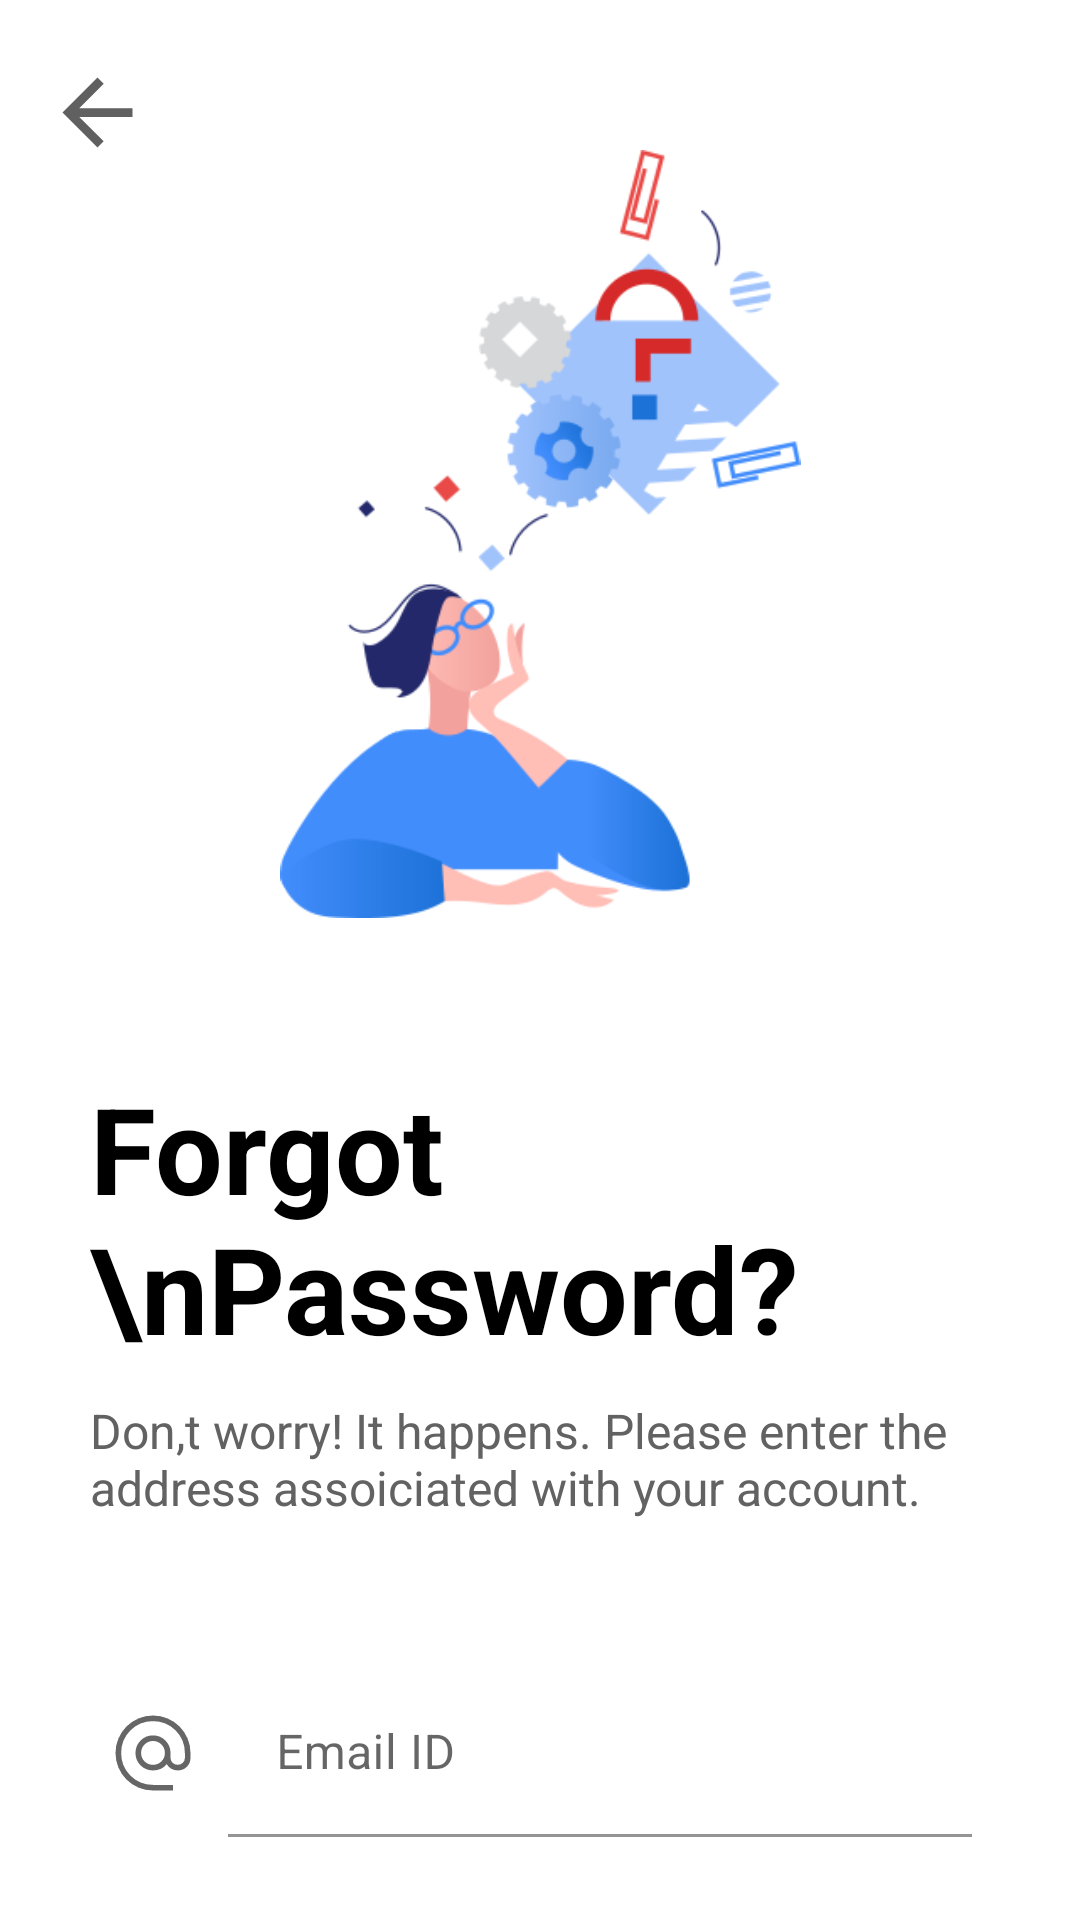

Locate icon controls on the screen. Image size 1080x1920, boxes as (x1, y1, x2, y2).
alternate email: (115, 1715, 191, 1791)
arrow back: (62, 77, 133, 148)
